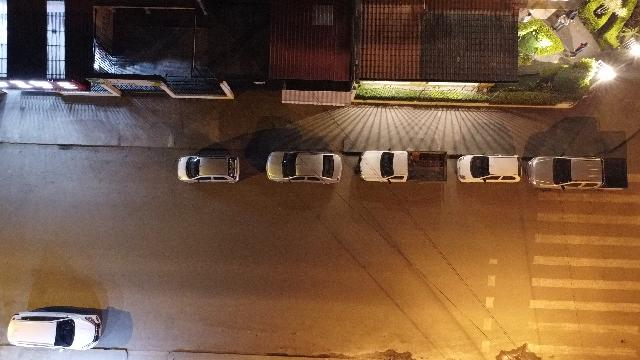Vehiculo: (7, 310, 102, 350), (527, 156, 627, 190), (358, 150, 448, 182), (266, 150, 342, 184), (456, 154, 522, 182), (177, 155, 239, 183)
